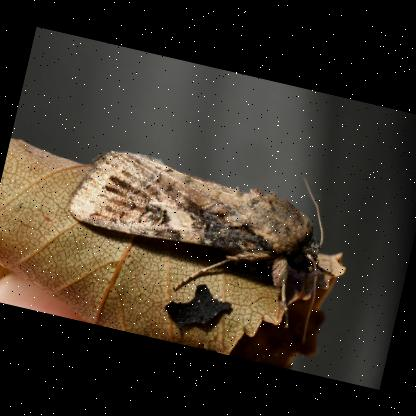Fall Armyworm Moth: (46, 123, 344, 347)
